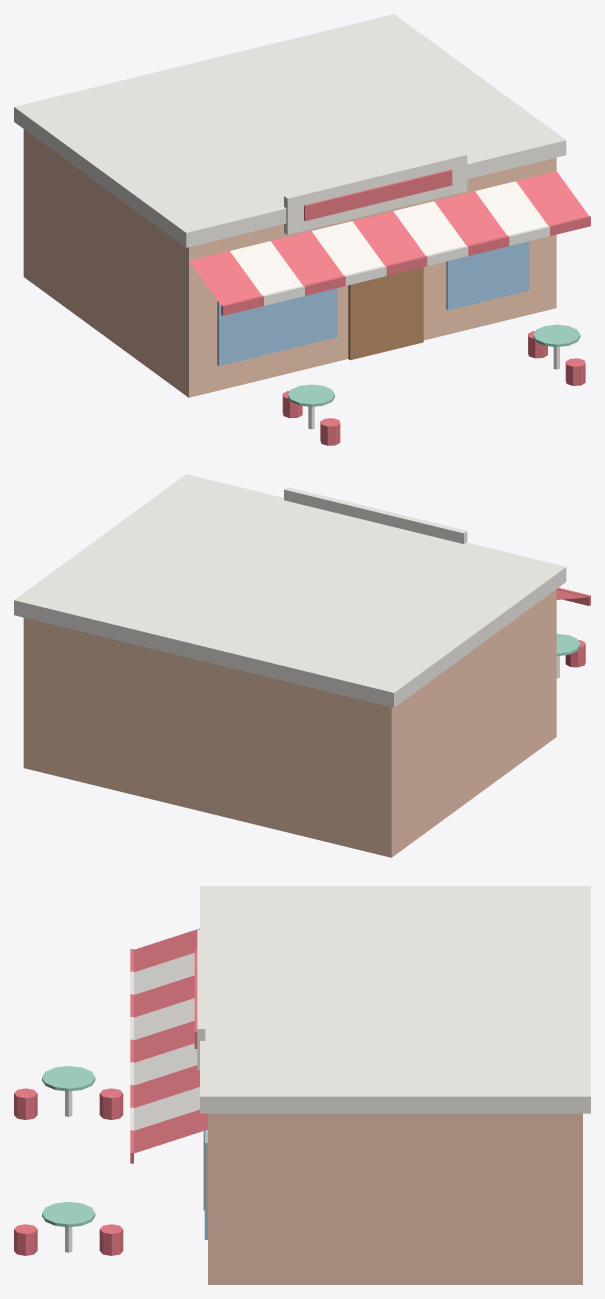
Rendered from cafe.glb.
The picture shows the model from 3 angles, top to bottom: view 1: azimuth 30°, elevation 25°; view 2: azimuth 150°, elevation 25°; view 3: azimuth 270°, elevation 25°; orthographic projection. The views are drawn at different scales.
Visible parts, largest first — view 1: cafe; view 2: cafe; view 3: cafe.
Part boxes in pixels (x1,y1,x2,y2): cafe: (14, 14, 590, 445); cafe: (14, 474, 590, 857); cafe: (14, 886, 590, 1284).
Size of the model in its own units: 9.3 by 4.2 by 10.77.
